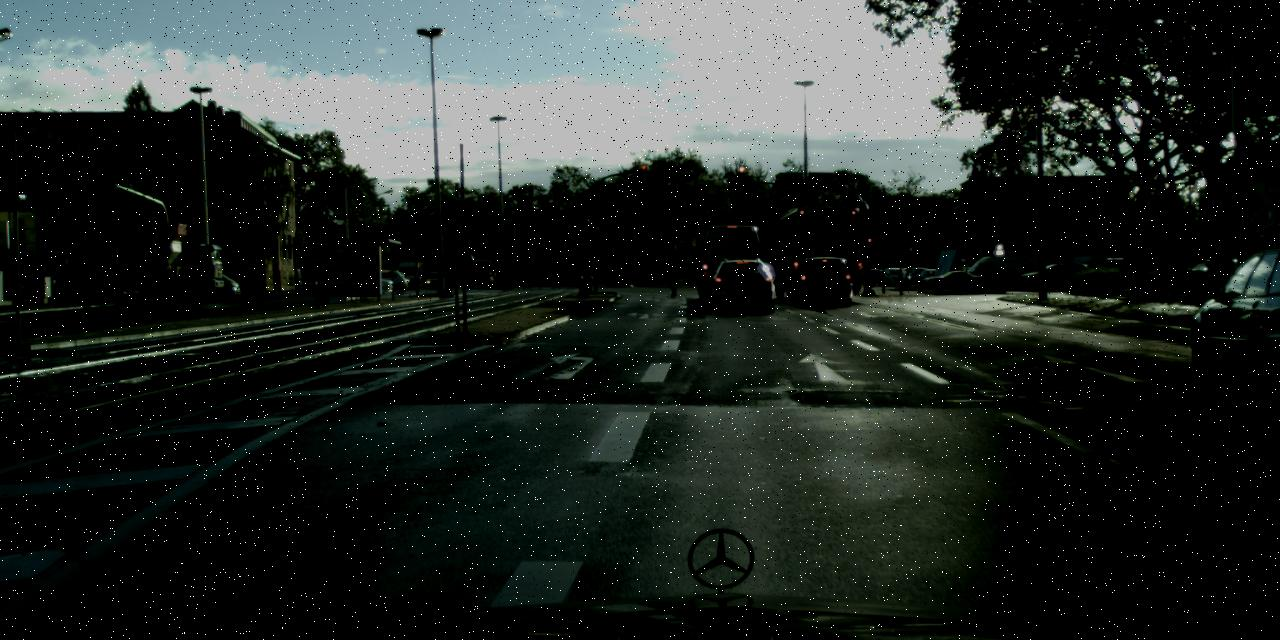ped: (1124, 255, 1136, 287), (482, 264, 491, 287)
